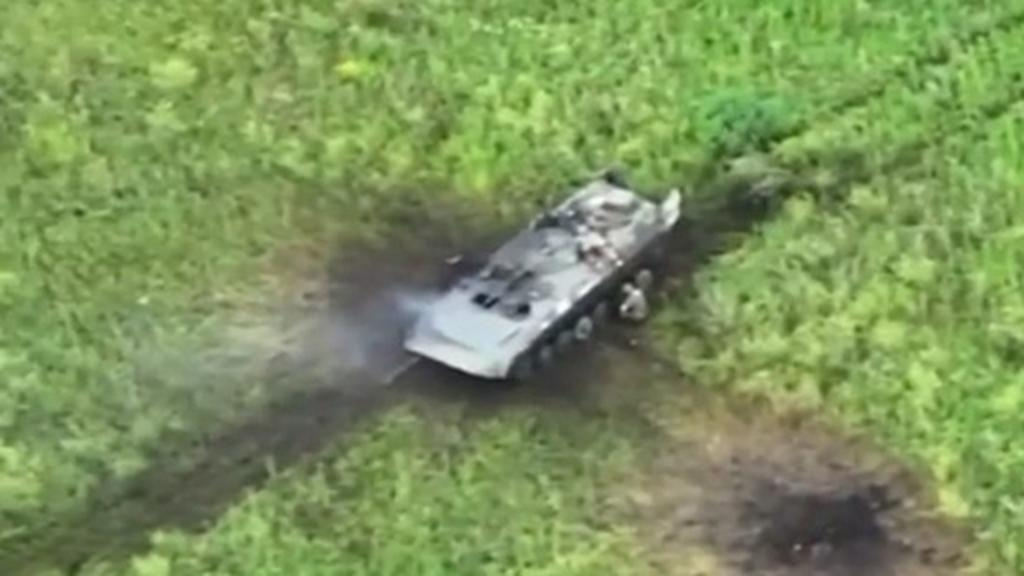APC-IFV: (386, 170, 682, 386)
